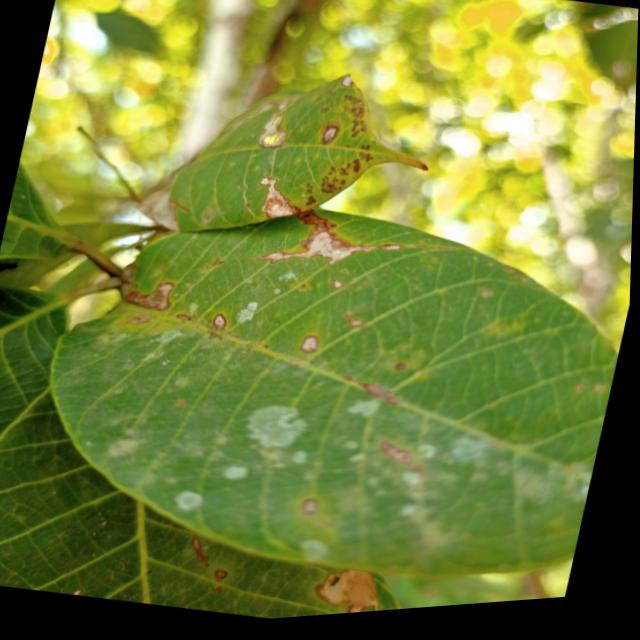Colletotrichum: (301, 338, 322, 360), (322, 129, 340, 151), (213, 315, 231, 334), (218, 572, 232, 585)
Leaf-Blight: (261, 223, 403, 292), (317, 566, 396, 621), (135, 186, 189, 237), (254, 179, 305, 228), (259, 113, 292, 155)
